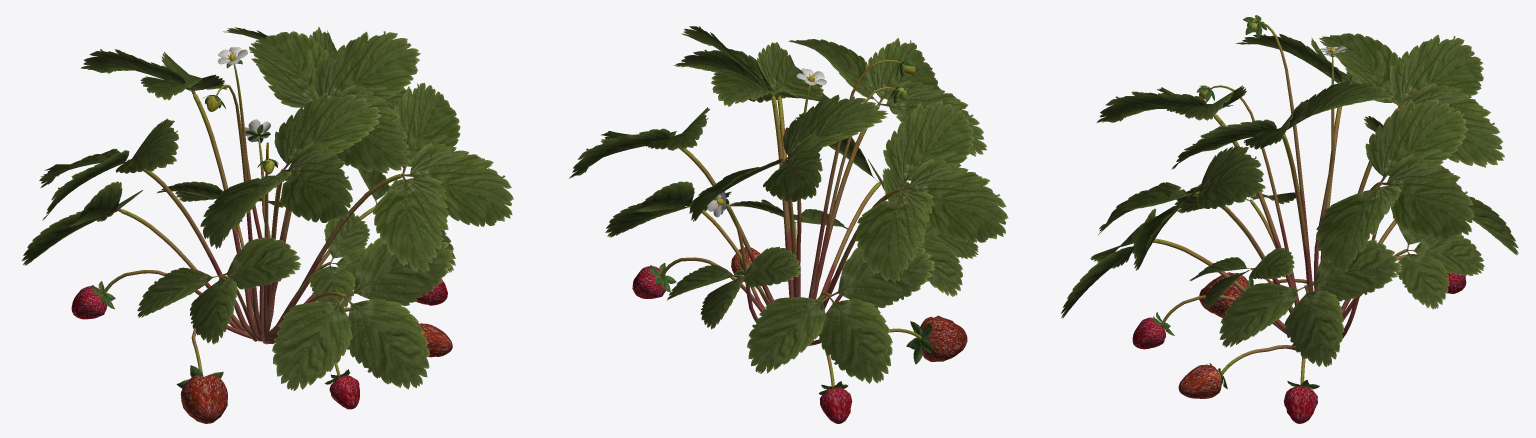
The picture shows the model from 3 angles, left to right: view 1: azimuth 30°, elevation 25°; view 2: azimuth 150°, elevation 25°; view 3: azimuth 270°, elevation 25°; orthographic projection.
Visible parts, largest first — view 1: leaf2, leaf1, branch1, fruit1, fruit5, leaf3, fruit7, flower1; view 2: leaf2, leaf1, branch1, fruit1, leaf3, fruit5, flower1; view 3: leaf2, leaf1, branch1, fruit1, fruit7, leaf3, fruit5.
Part boxes in pixels (x1,y1,x2,y2): leaf2: (39, 27, 513, 272); leaf1: (22, 167, 455, 390); branch1: (102, 65, 404, 377); fruit1: (71, 280, 447, 409); fruit5: (180, 374, 227, 423); leaf3: (92, 57, 418, 388); fruit7: (418, 323, 452, 357); flower1: (217, 47, 270, 142); leaf2: (569, 26, 1008, 282); leaf1: (605, 114, 978, 383); branch1: (660, 59, 921, 388); fruit1: (632, 266, 852, 423); leaf3: (650, 58, 932, 394); fruit5: (920, 315, 967, 361); flower1: (707, 68, 826, 217); leaf2: (1096, 33, 1504, 272); leaf1: (1061, 116, 1518, 366); branch1: (1153, 22, 1417, 384); fruit1: (1132, 273, 1466, 423); fruit7: (1178, 364, 1221, 398); leaf3: (1153, 15, 1447, 392); fruit5: (1199, 272, 1248, 317).
Bounding box in the file's own units: 0.5598 × 0.5338 × 0.4098.
